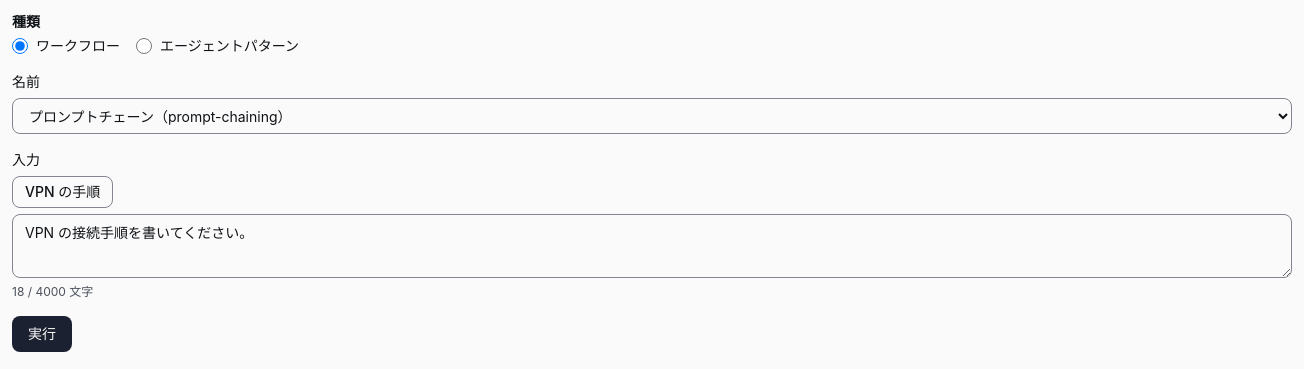
Scenario: WorkflowPanel selection › changes the input example when another name is chosen
Step 1. Select "ルーティング（routing）" in the dropdown labelled "名前" → (652, 116), box x1=12 y1=98 x2=1292 y2=134
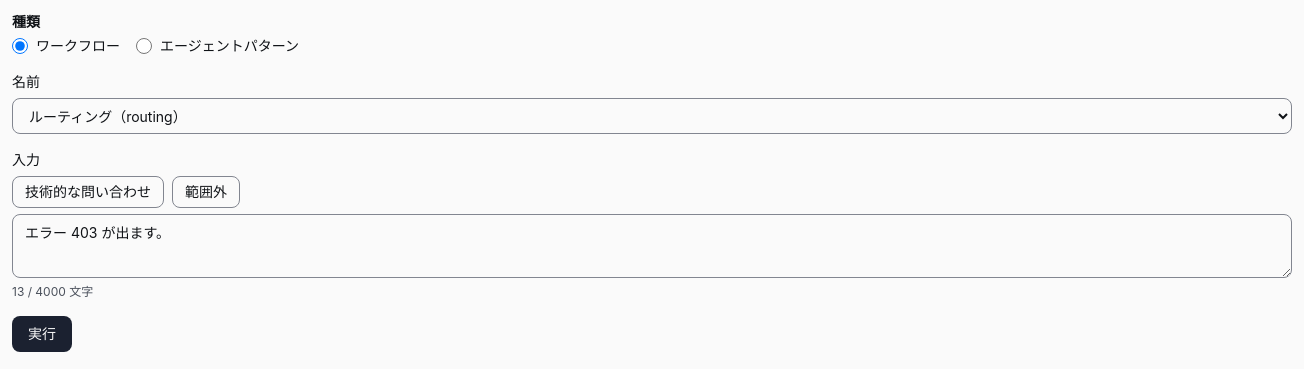
Now the text box labelled "入力" holds "エラー 403 が出ます。", box x1=12 y1=214 x2=1292 y2=278
